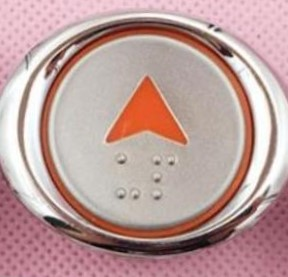Braille: (113, 152, 142, 201), (151, 152, 177, 201)
